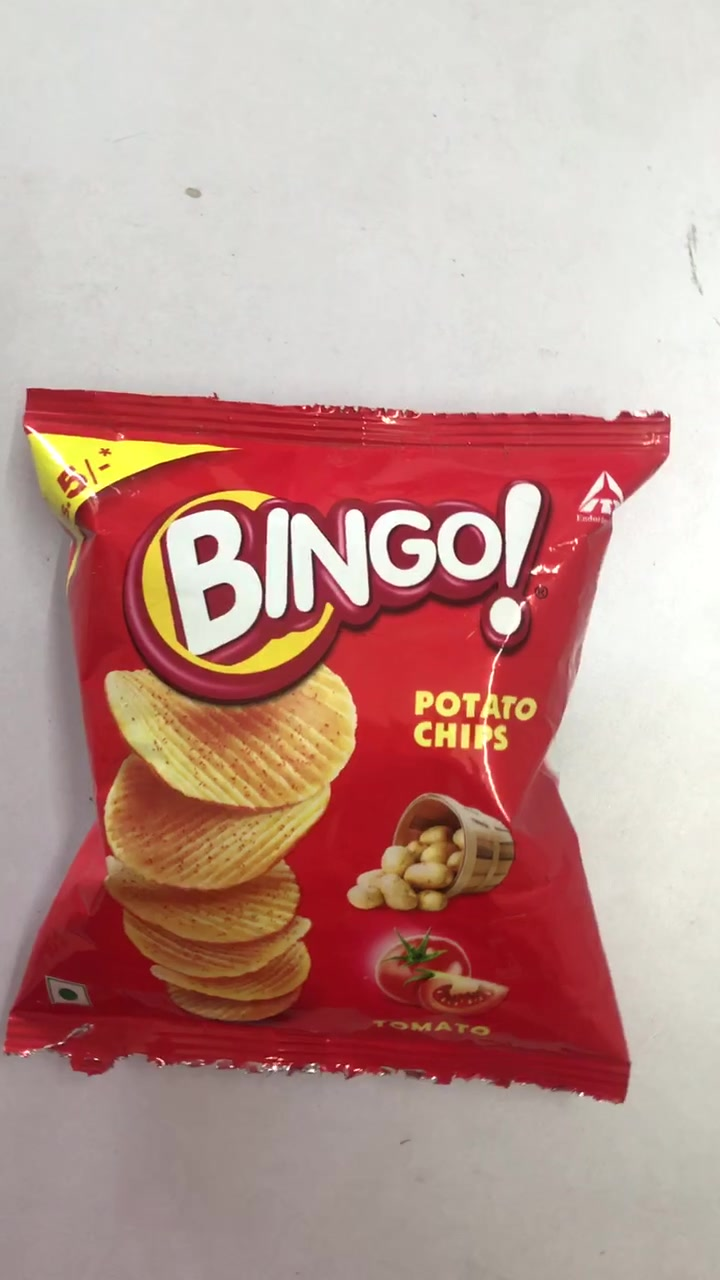Bingo: (19, 380, 671, 1109)
